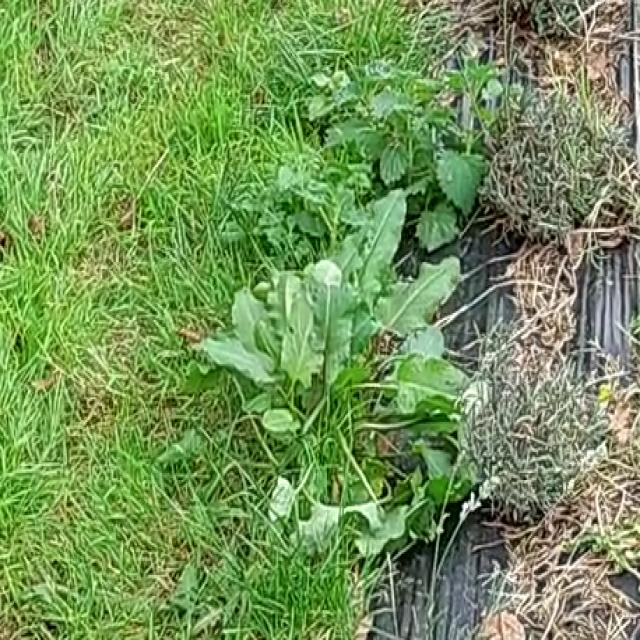organic waste: (202, 204, 462, 533)
